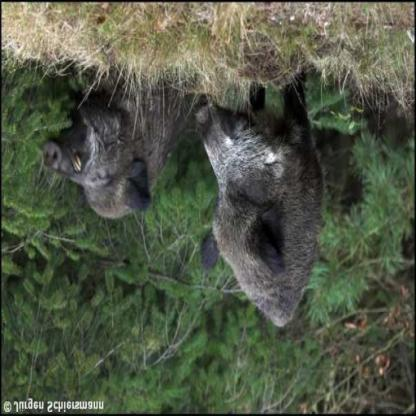boar: (199, 75, 384, 334), (25, 106, 187, 250)
